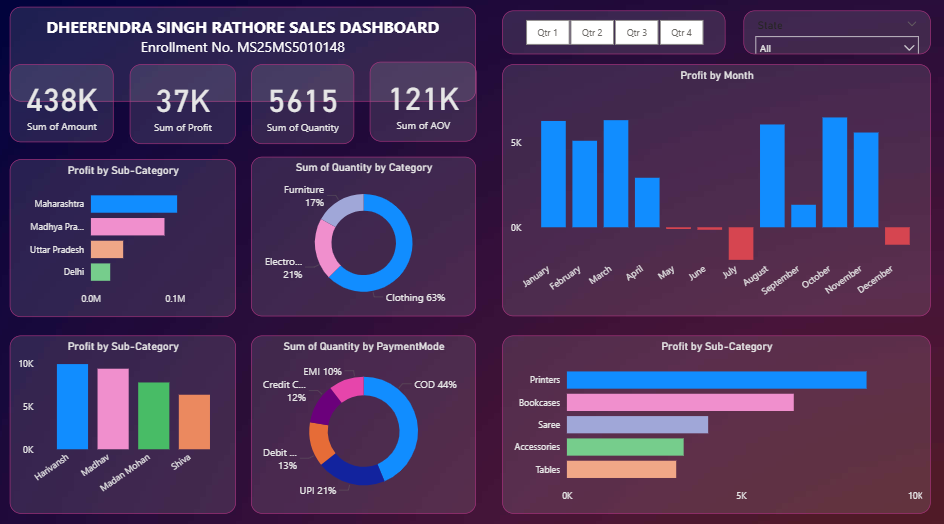

Layout of this report page (visuals, bound fields, positions):
{"tool":"powerbi","page":{"name":"Page 1","canvas":[1280,720],"ordinal":0},"visuals":[{"type":"textbox","box":[18.8,18.8,621.2,62.5],"z":0},{"type":"columnChart","title":"Profit by Month","fields":{"Category":["Orders.Order Date.Variation.Date Hierarchy.Month"],"Y":["Sum(Details.Profit)"]},"box":[675,95,571.2,336.2],"z":1000},{"type":"barChart","title":"Profit by Sub-Category","fields":{"Category":["Details.Sub-Category"],"Y":["Sum(Details.Profit)"]},"box":[675,456.2,571.2,237.5],"z":2000},{"type":"donutChart","fields":{"Category":["Details.Category"],"Y":["Sum(Details.Quantity)"]},"box":[340,218.8,300,212.5],"z":3000},{"type":"donutChart","fields":{"Y":["Sum(Details.Quantity)"],"Category":["Details.PaymentMode"]},"box":[340,456.2,300,237.5],"z":4000},{"type":"card","fields":{"Values":["Sum(Details.Amount)"]},"box":[18.8,95,138.8,103.8],"z":5000},{"type":"card","fields":{"Values":["Sum(Details.Quantity)"]},"box":[340,95,137.5,106.2],"z":6000},{"type":"card","fields":{"Values":["Sum(Details.Profit)"]},"box":[178.8,95,141.2,106.2],"z":7000},{"type":"card","fields":{"Values":["Sum(Details.AOV)"]},"box":[497.5,91.2,142.5,106.2],"z":8000},{"type":"barChart","title":"Profit by Sub-Category","fields":{"Category":["Orders.State"],"Y":["Sum(Details.Amount)"]},"box":[18.8,221.2,301.2,210],"z":9000},{"type":"columnChart","title":"Profit by Sub-Category","fields":{"Category":["Orders.CustomerName"],"Y":["Sum(Details.Amount)"]},"box":[18.8,456.2,301.2,237.5],"z":10000},{"type":"slicer","fields":{"Values":["Orders.Order Date.Variation.Date Hierarchy.Quarter"]},"box":[675,22.5,297.5,58.8],"z":11000},{"type":"slicer","fields":{"Values":["Orders.State"]},"box":[997.3,22.7,249.3,58.7],"z":12000}]}

Visuals, with their boxes in screenshot pixels (x1, y1, x2, y2), scaled from the page's 1280x720 canvas onto the 944x524 screenshot:
textbox: bbox(14, 14, 472, 59)
"Profit by Month" columnChart: bbox(498, 69, 919, 314)
"Profit by Sub-Category" barChart: bbox(498, 332, 919, 505)
donutChart - Details.Category x Sum(Details.Quantity): bbox(251, 159, 472, 314)
donutChart - Sum(Details.Quantity) x Details.PaymentMode: bbox(251, 332, 472, 505)
card - Sum(Details.Amount): bbox(14, 69, 116, 145)
card - Sum(Details.Quantity): bbox(251, 69, 352, 146)
card - Sum(Details.Profit): bbox(132, 69, 236, 146)
card - Sum(Details.AOV): bbox(367, 66, 472, 144)
"Profit by Sub-Category" barChart: bbox(14, 161, 236, 314)
"Profit by Sub-Category" columnChart: bbox(14, 332, 236, 505)
slicer - Orders.Order Date.Variation.Date Hierarchy.Quarter: bbox(498, 16, 717, 59)
slicer - Orders.State: bbox(736, 17, 919, 59)
